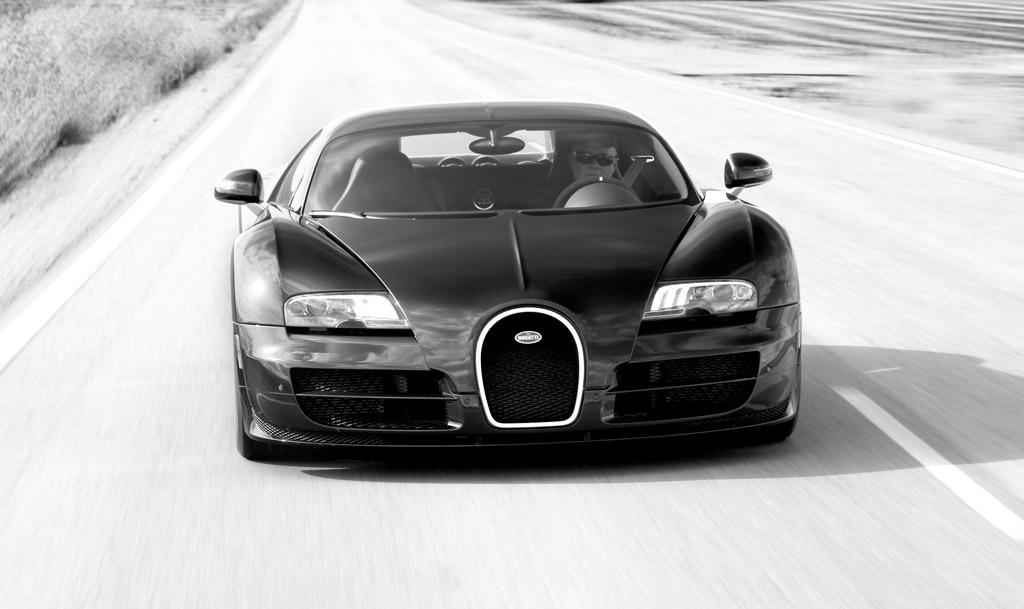car: (213, 105, 804, 460)
